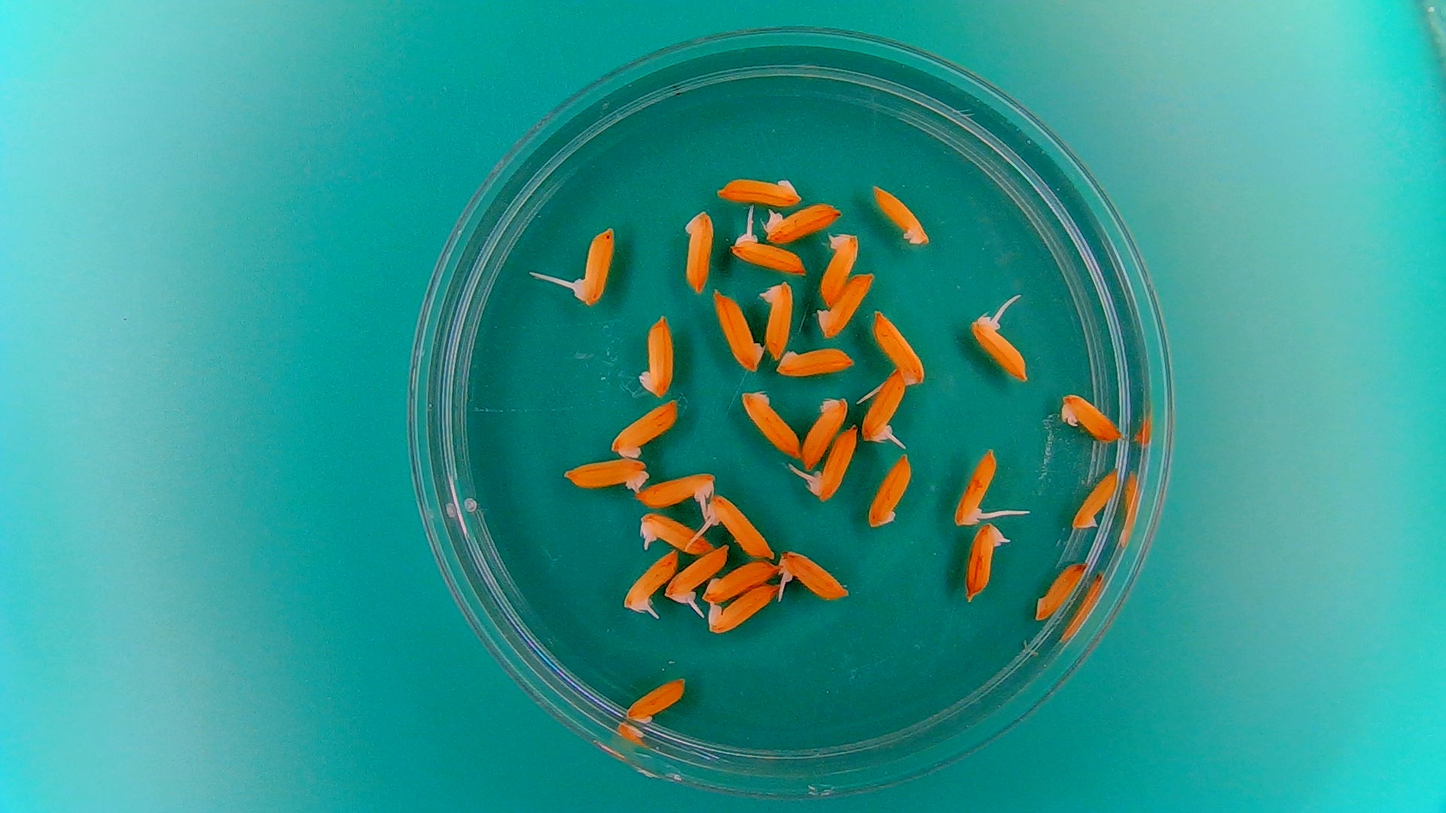no: (708, 285, 764, 374), (609, 396, 683, 461), (813, 268, 876, 341), (741, 388, 803, 461), (869, 180, 932, 248), (865, 451, 917, 531), (706, 581, 779, 635), (635, 310, 678, 400), (1033, 559, 1088, 625), (801, 392, 849, 467), (560, 453, 652, 492), (1069, 466, 1120, 534), (755, 277, 795, 362), (622, 674, 688, 725), (703, 558, 777, 603), (713, 171, 803, 206), (682, 206, 717, 294), (775, 342, 857, 379)
yes: (705, 495, 780, 560), (966, 316, 1029, 385), (873, 311, 927, 386), (633, 467, 719, 513), (622, 547, 681, 614), (665, 547, 730, 607), (961, 523, 1011, 601), (728, 230, 809, 276), (777, 550, 848, 602), (950, 451, 999, 525), (1057, 390, 1124, 444), (810, 428, 859, 500), (638, 511, 716, 556), (760, 202, 841, 244), (574, 233, 618, 309), (819, 233, 861, 309), (863, 369, 903, 442)
